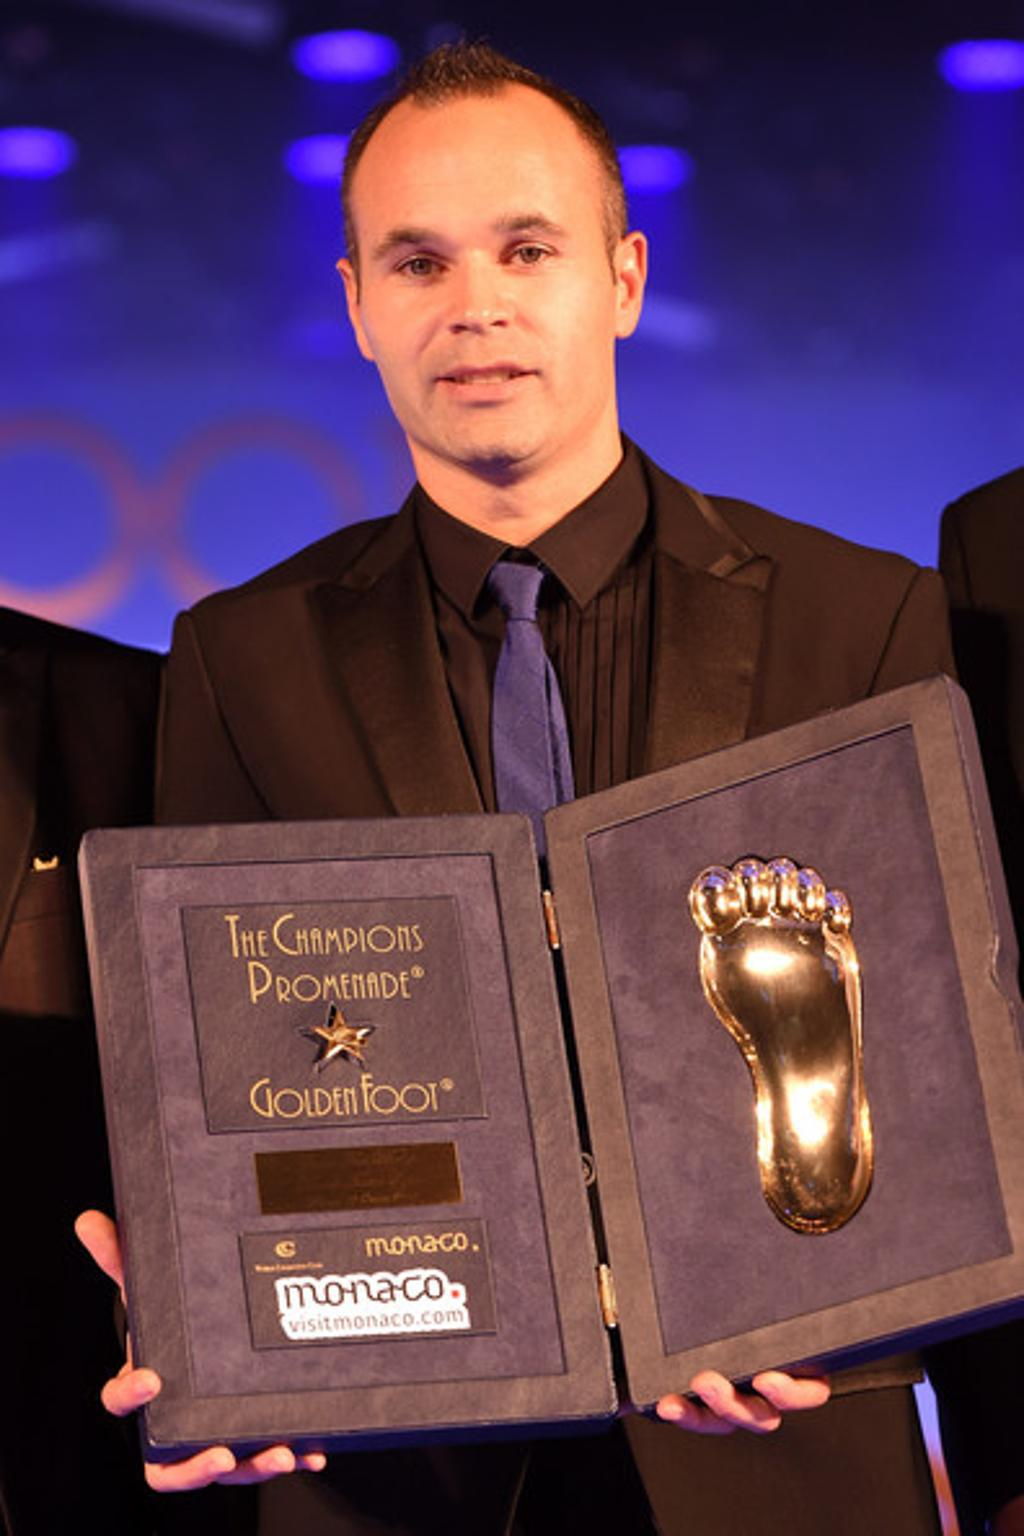face: (352, 82, 622, 460)
